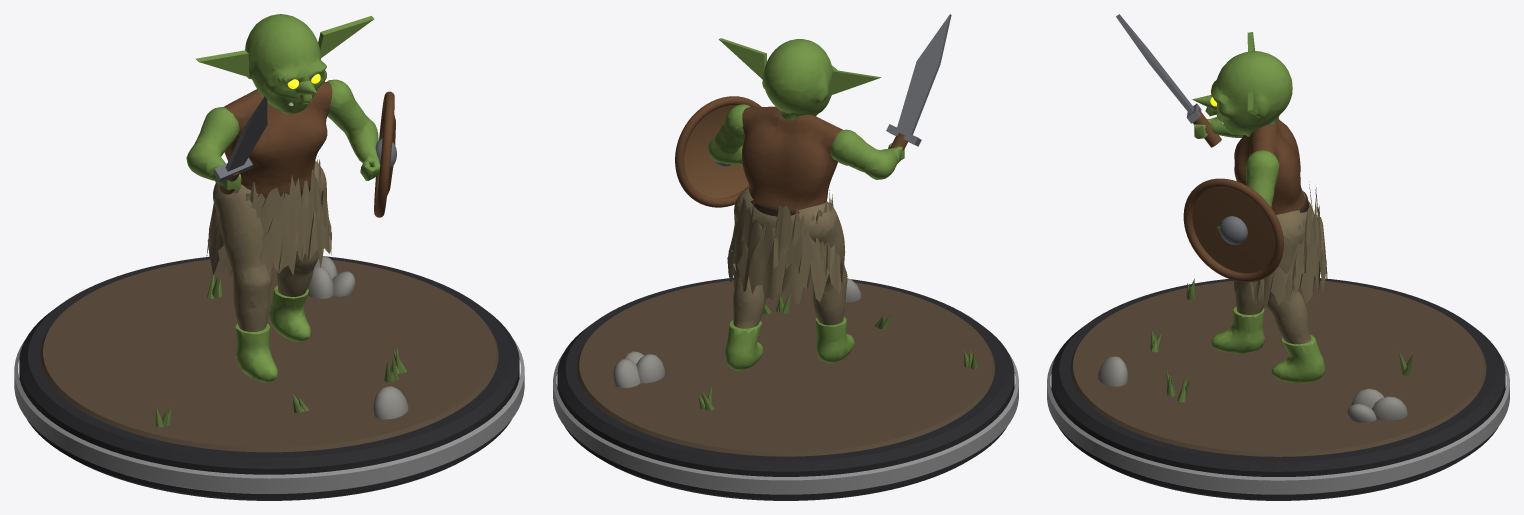
File: goblin.glb
3 views of the same model, side by side, from view 1: azimuth 30°, elevation 25°; view 2: azimuth 150°, elevation 25°; view 3: azimuth 270°, elevation 25° (orthographic). The views are drawn at different scales.
Visible parts, largest first — view 1: goblin; view 2: goblin; view 3: goblin.
Part boxes in pixels (left/top/right/bottom): goblin: left=14, top=14, right=524, bottom=500; goblin: left=553, top=14, right=1018, bottom=500; goblin: left=1047, top=14, right=1509, bottom=500.
Bounding box in the file's own units: 0.856 × 0.7205 × 0.8556.
